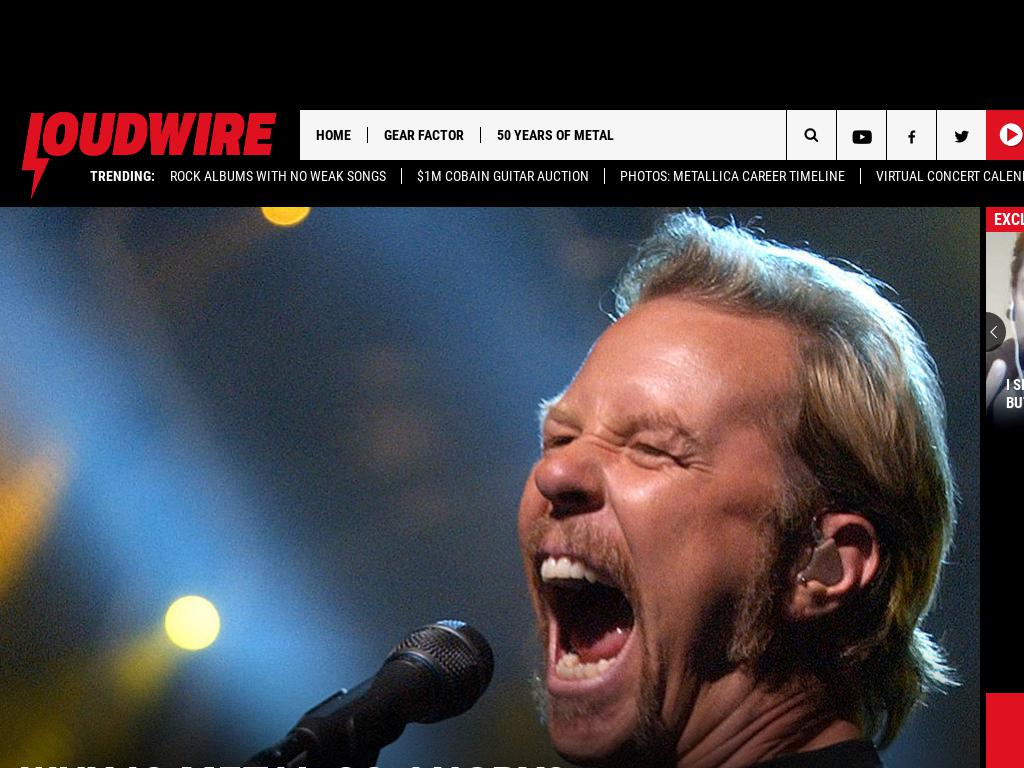button: (0, 31, 300, 191), (20, 757, 960, 768), (480, 110, 630, 160), (367, 110, 480, 160), (743, 394, 1004, 412), (300, 110, 367, 160), (639, 182, 726, 212), (986, 110, 1024, 160)
field: (791, 117, 896, 153), (786, 110, 836, 160)
heading: (20, 761, 960, 768), (986, 207, 1024, 232), (1006, 737, 1024, 768)
iframe: (320, 10, 1024, 100), (986, 438, 1024, 688), (735, 177, 820, 201), (898, 178, 961, 198), (833, 179, 892, 199)
image: (0, 207, 980, 768), (0, 0, 1024, 160), (723, 232, 1024, 432), (15, 103, 285, 205), (786, 110, 835, 160), (986, 312, 1006, 352), (1023, 232, 1024, 432)
link: (619, 168, 844, 184), (170, 168, 386, 184), (416, 168, 588, 184), (875, 168, 1024, 184)
text: (90, 168, 155, 184), (1006, 713, 1024, 727)
